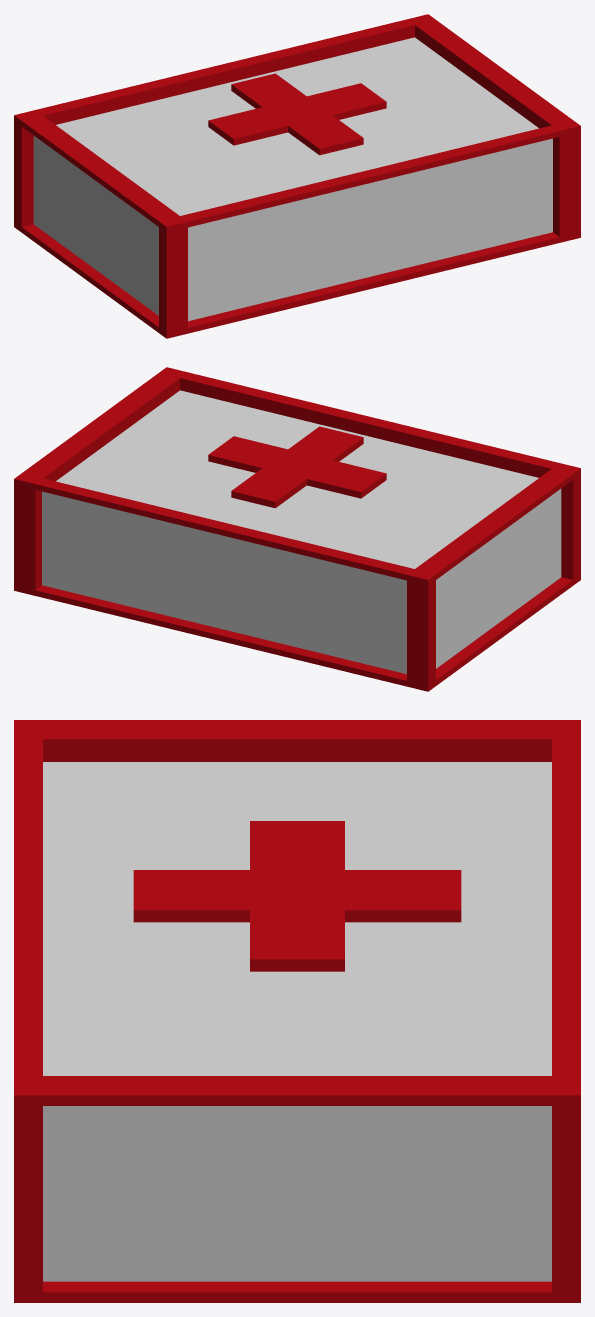
File: healthkit.fbx
3 views of the same model, one above another, from view 1: azimuth 30°, elevation 25°; view 2: azimuth 150°, elevation 25°; view 3: azimuth 270°, elevation 25° (orthographic). The views are drawn at different scales.
Parts seen in each view (by area): view 1: healthpack; view 2: healthpack; view 3: healthpack.
Boxes of the visible parts, x1=… form: healthpack: x1=14, y1=14, x2=580, y2=338; healthpack: x1=14, y1=367, x2=580, y2=691; healthpack: x1=14, y1=720, x2=580, y2=1302.
Size of the model in its own units: 430 by 120 by 274.
